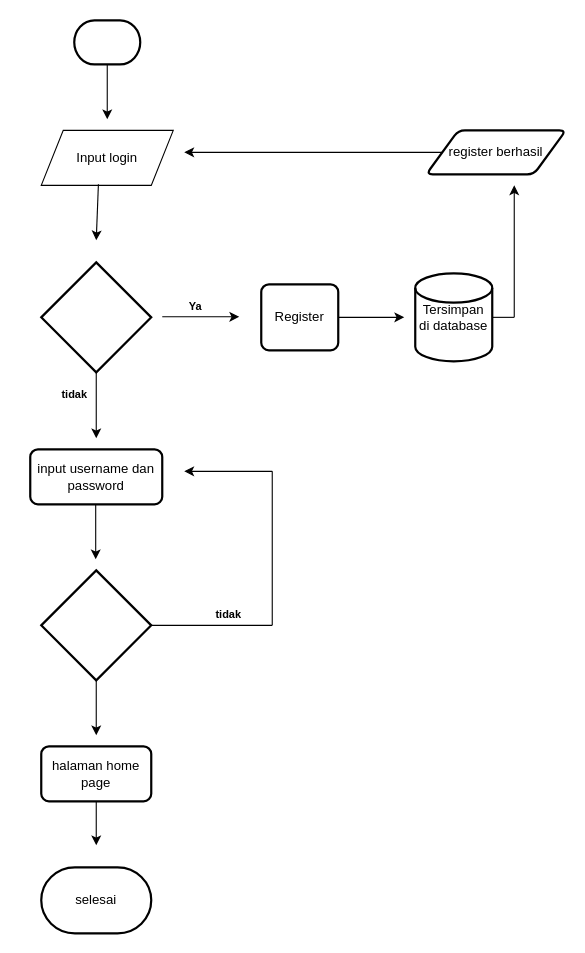
This 585x953 diagram has some shape labels left out. The shapes that lost their labels are listed below. From the top down, each one's centre as x and y in pixels, then its label:
At (x=107, y=42): "START".
At (x=96, y=317): "buat akun".
At (x=96, y=625): "berhasil / tidak".
